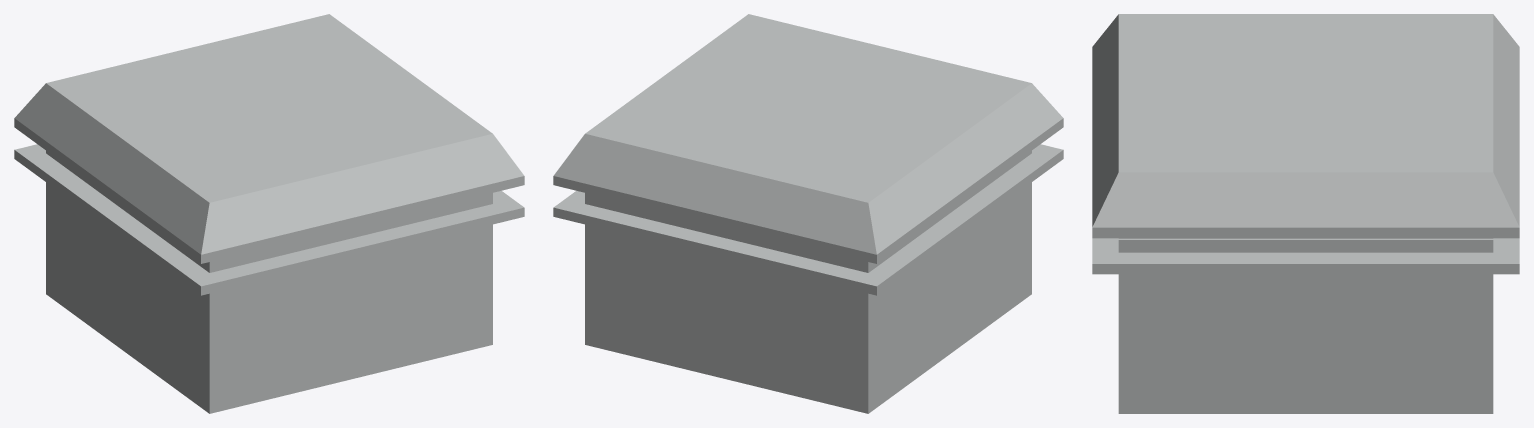
The model's file is METALBOX.fbx.
The picture shows the model from 3 angles, left to right: view 1: azimuth 30°, elevation 25°; view 2: azimuth 150°, elevation 25°; view 3: azimuth 270°, elevation 25°; orthographic projection. The views are drawn at different scales.
Parts seen in each view (by area): view 1: polySurface2, polySurface1; view 2: polySurface2, polySurface1; view 3: polySurface2, polySurface1.
Boxes of the visible parts, x1,y1,x2,y2 form: polySurface2: (14,14,524,263); polySurface1: (14,144,524,413); polySurface2: (553,14,1063,263); polySurface1: (553,144,1063,413); polySurface2: (1092,14,1519,238); polySurface1: (1092,238,1519,413).
Size of the model in its own units: 1.14 by 0.7121 by 1.14.
Materials: 1 (1 with a texture image).
